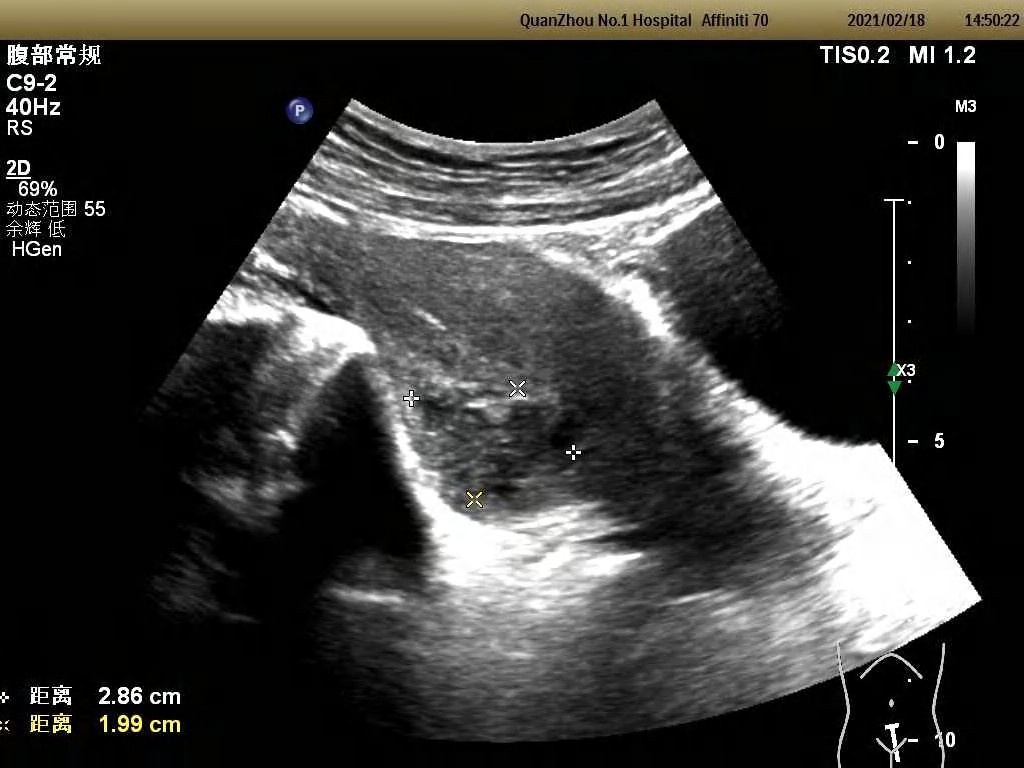肌瘤: (417, 398, 561, 486)
